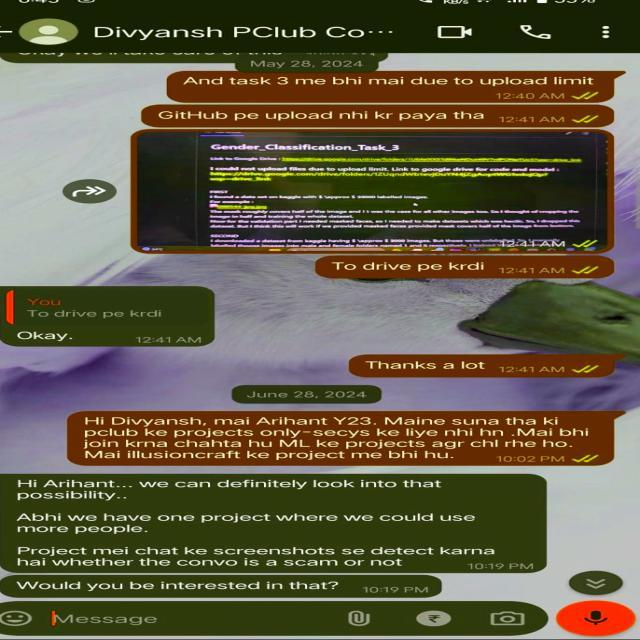scam: (5, 476, 533, 568), (6, 574, 348, 597), (7, 325, 88, 345)
